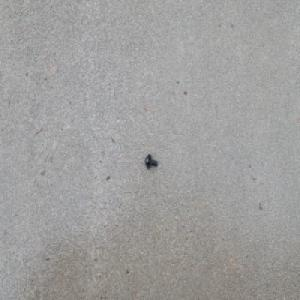BoltWasher: (144, 154, 157, 169)
